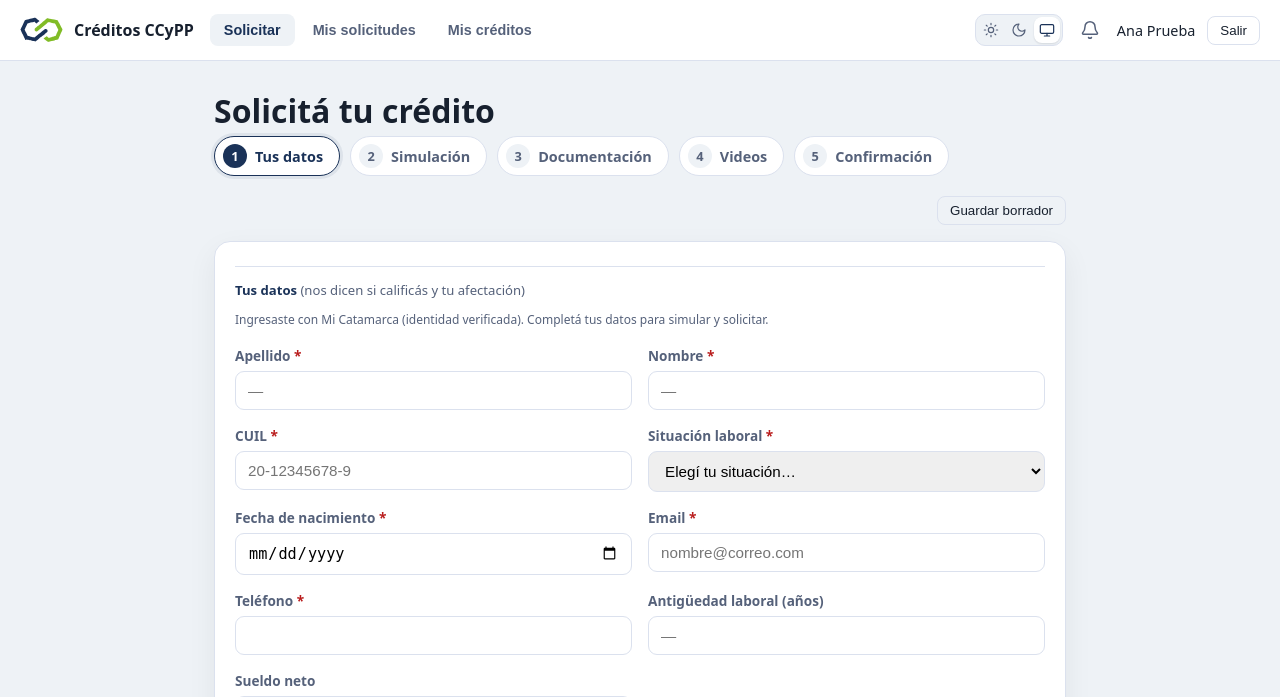
Test: paso 1 · datos del solicitante › la antigüedad admite hasta dos dígitos de años
Expected: the heading "Solicitá tu crédito" is shown, [214,89,495,132]
Type "123" into the number field labelled "Antigüedad laboral (años)" at x=846, y=636, box [648,616,1045,655]
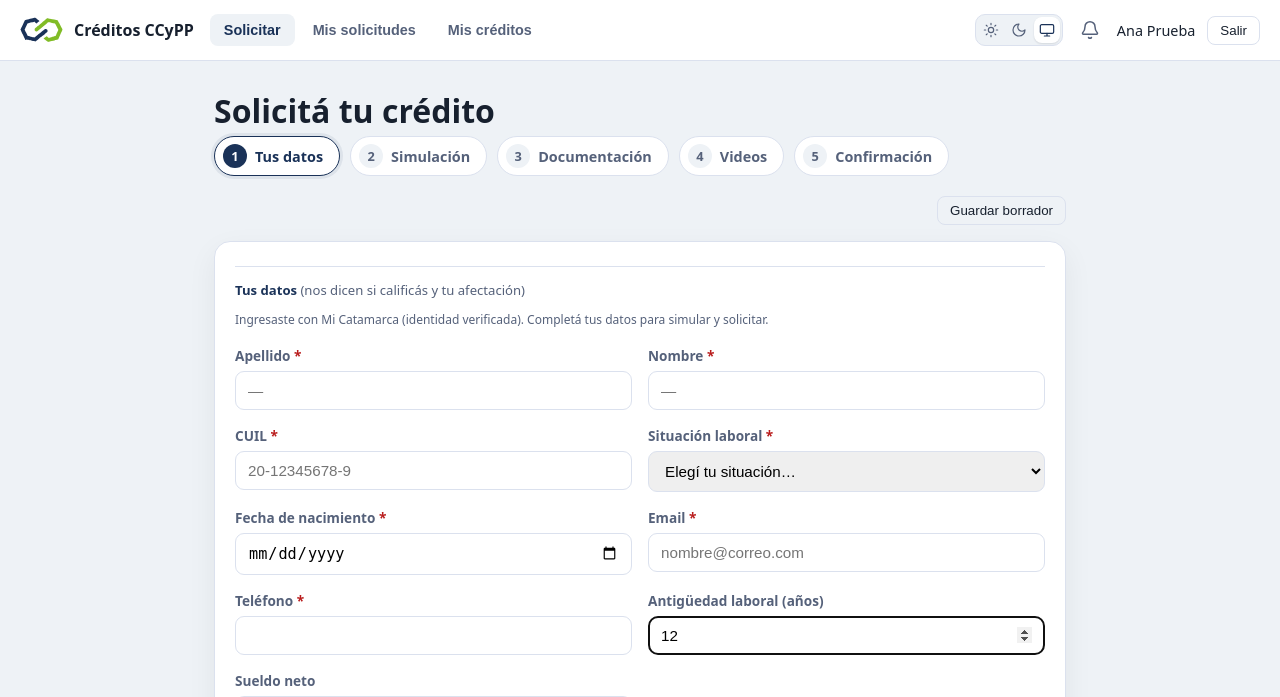
Now the number field labelled "Antigüedad laboral (años)" holds "12", box [648,616,1045,655]
